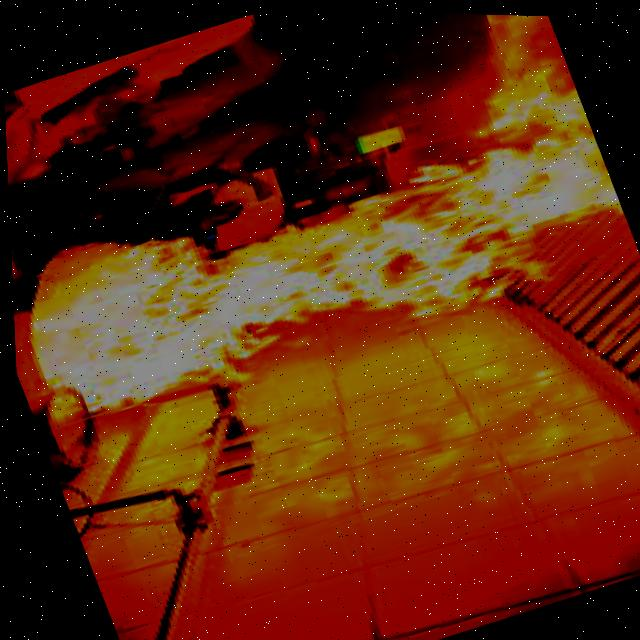Fire: (2, 51, 640, 440), (454, 11, 631, 258)
